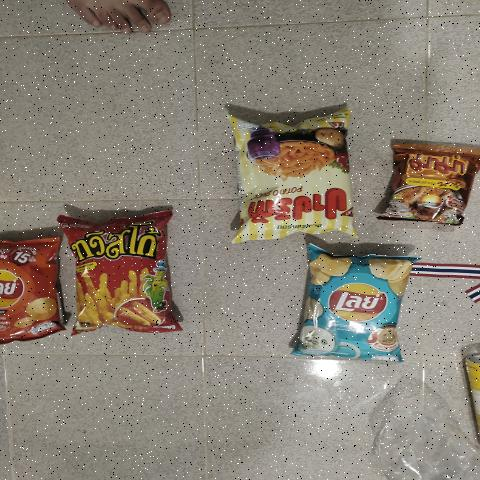lay_blue: (308, 262, 390, 359)
mama: (387, 140, 475, 227)
paprika: (233, 107, 359, 232)
twisco: (75, 219, 166, 332)
